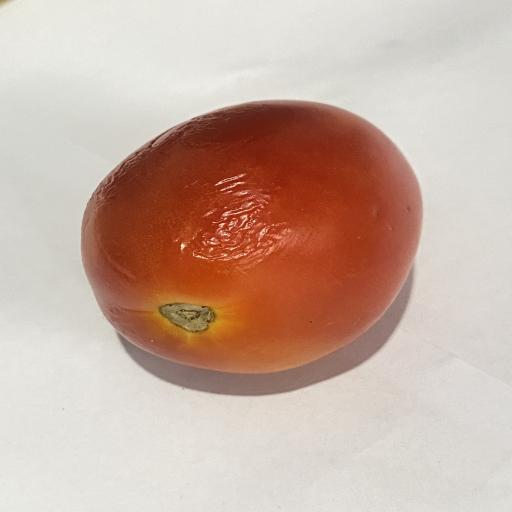spoiled: (81, 101, 422, 373), (180, 173, 290, 266)
